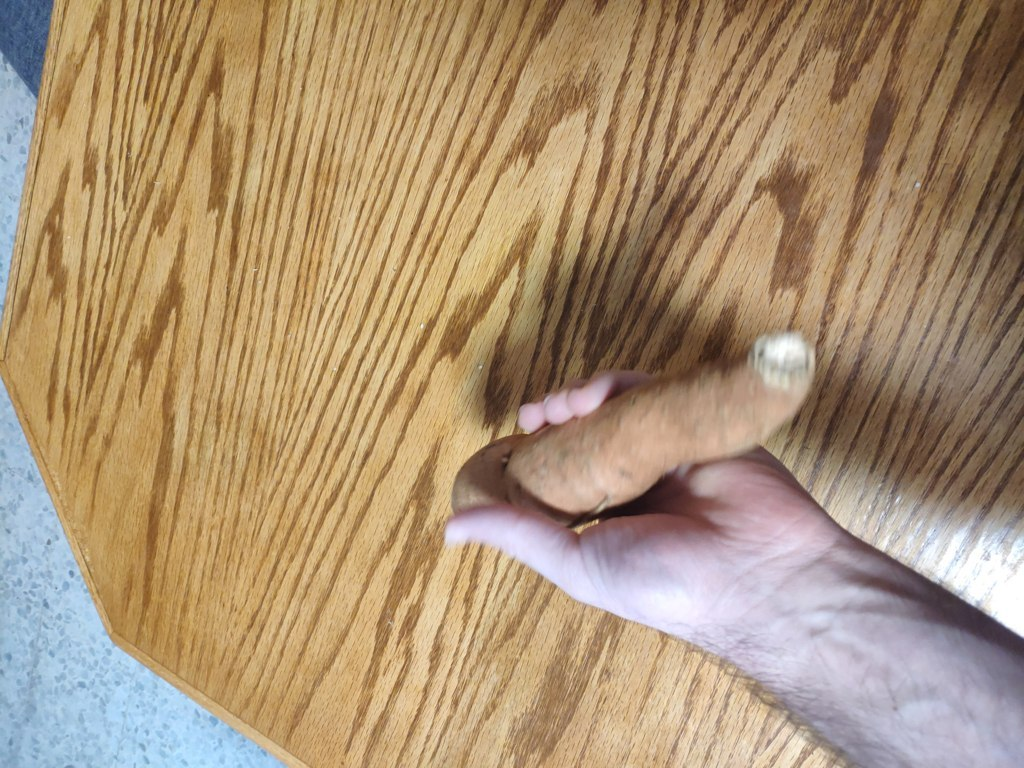Sweet Potato: (458, 336, 830, 531)
